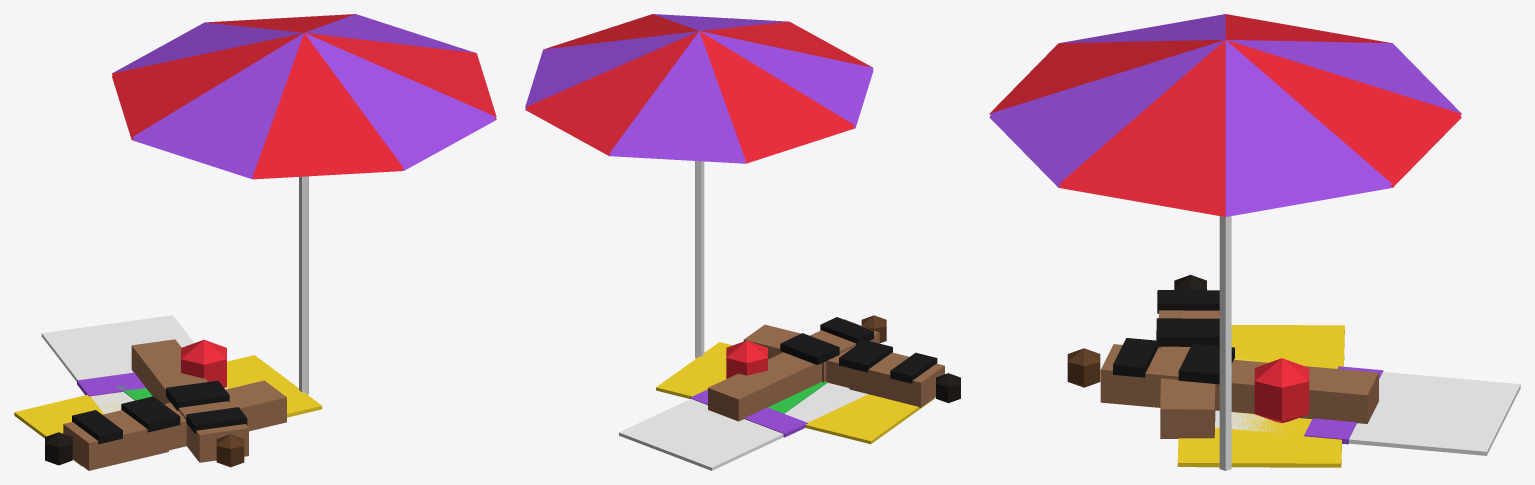
The model's file is nudista_grupo_2.obj.
3 renders of one model, left to right at view 1: azimuth 30°, elevation 25°; view 2: azimuth 150°, elevation 25°; view 3: azimuth 270°, elevation 25°, orthographic. The views are drawn at different scales.
Visible parts, largest first — view 1: nudista_grupo_2; view 2: nudista_grupo_2; view 3: nudista_grupo_2.
Part boxes in pixels (left/top/right/bottom): nudista_grupo_2: left=14, top=14, right=496, bottom=470; nudista_grupo_2: left=525, top=14, right=960, bottom=470; nudista_grupo_2: left=989, top=14, right=1520, bottom=470.
Size of the model in its own units: 3.36 by 2.6 by 2.92.
